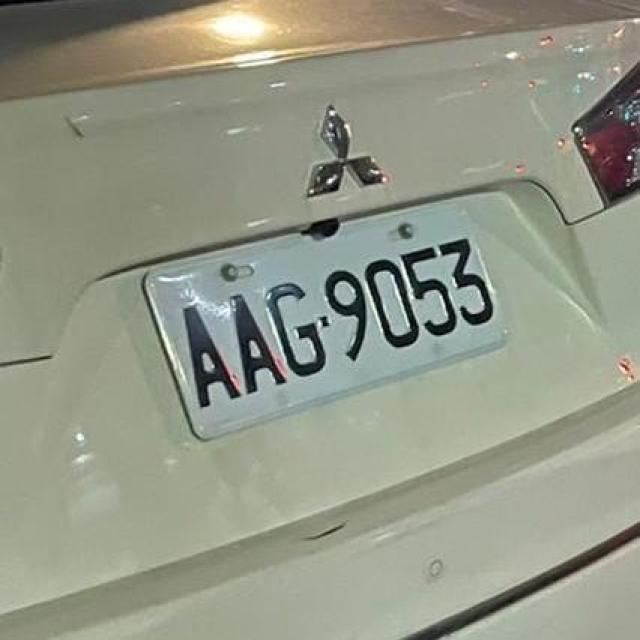W: (129, 156, 535, 458)
